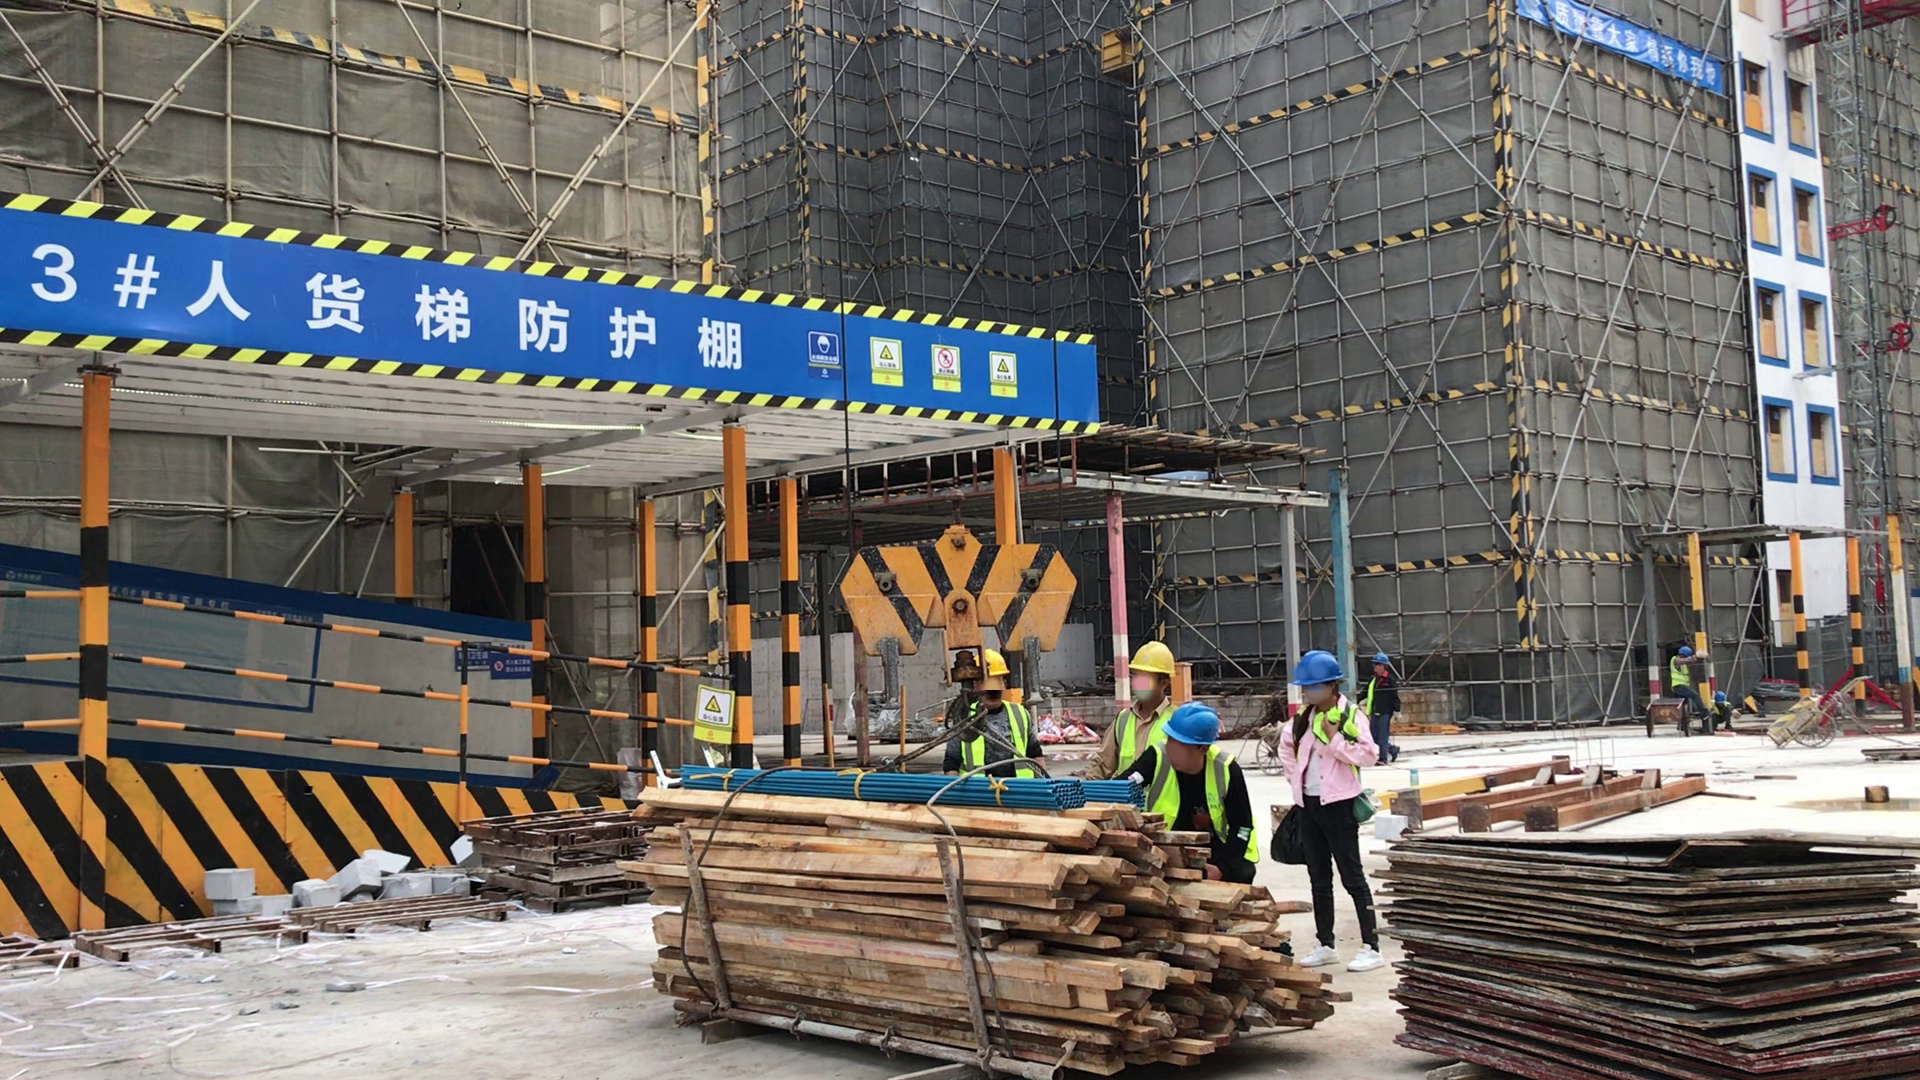board: (1389, 801, 1920, 1076)
helmet: (1164, 700, 1218, 745), (1291, 649, 1342, 683), (1126, 644, 1177, 675), (976, 656, 1017, 674), (1371, 653, 1389, 665), (1679, 646, 1693, 657), (1714, 692, 1727, 703)
hook: (829, 534, 1067, 654)
hopper: (1770, 679, 1875, 752)
person: (1273, 649, 1392, 971), (1130, 702, 1259, 880), (1074, 642, 1183, 783), (942, 651, 1045, 777), (1358, 653, 1404, 765), (1668, 646, 1707, 713), (1704, 691, 1741, 731)
slogan: (1514, 1, 1733, 100)
vest: (1151, 740, 1246, 841), (957, 695, 1031, 765), (1116, 702, 1172, 762), (1670, 656, 1693, 690)
wood: (628, 783, 1336, 1080)
